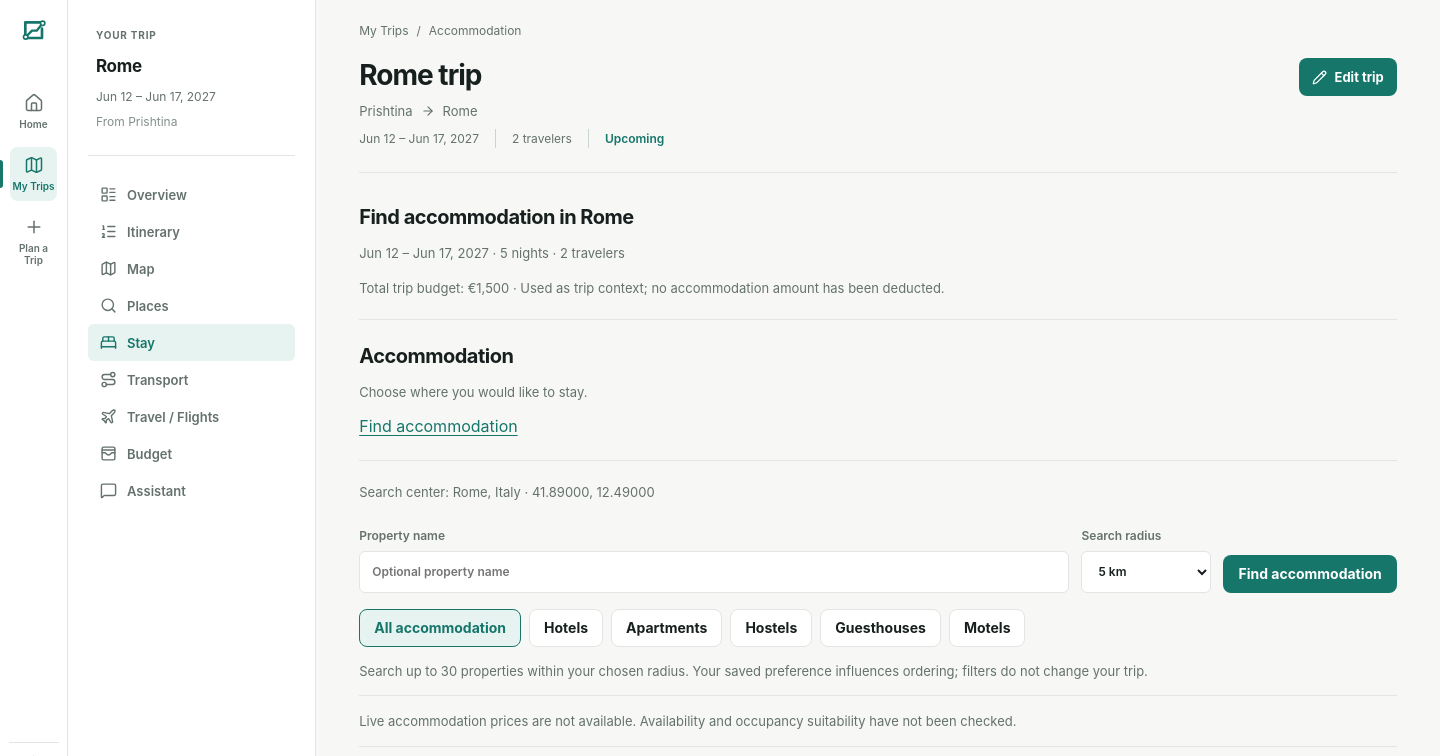
Test: Accommodation workspace through real repository and provider adapter › loads detail and media on demand, retains fallback, and keeps factual comparison fields
The width and height of the screenshot is (1440, 756).
Expected: the heading "Find accommodation in Rome" is shown, [359,205,634,229]
Click the button "Find accommodation": (1310, 574) [1223,555,1397,593]
(page scrolled)
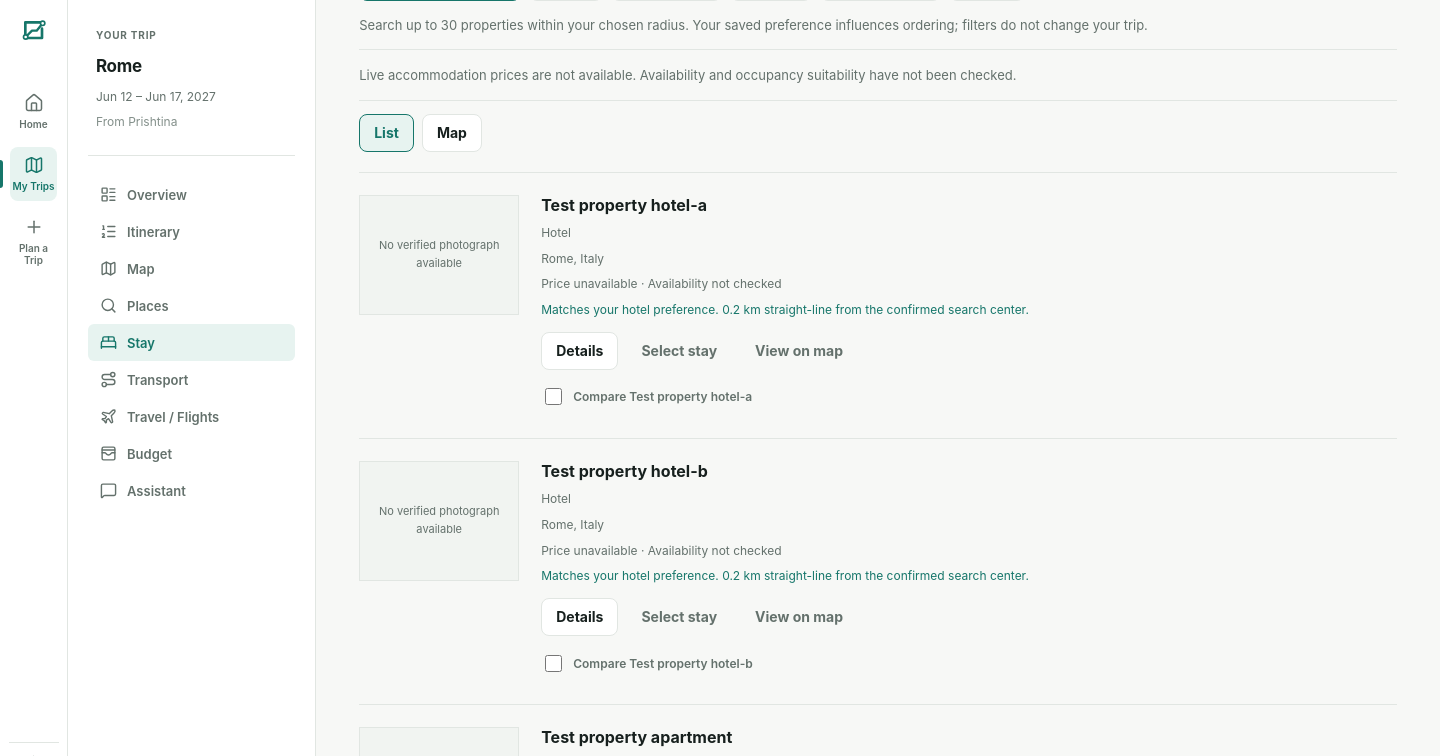
Now the button with aria-label "Details for Test property hotel-a" is shown, box [541,332,618,370]
Click the checkbox labelled "Compare Test property hotel-a": (554, 397) [545,388,562,405]
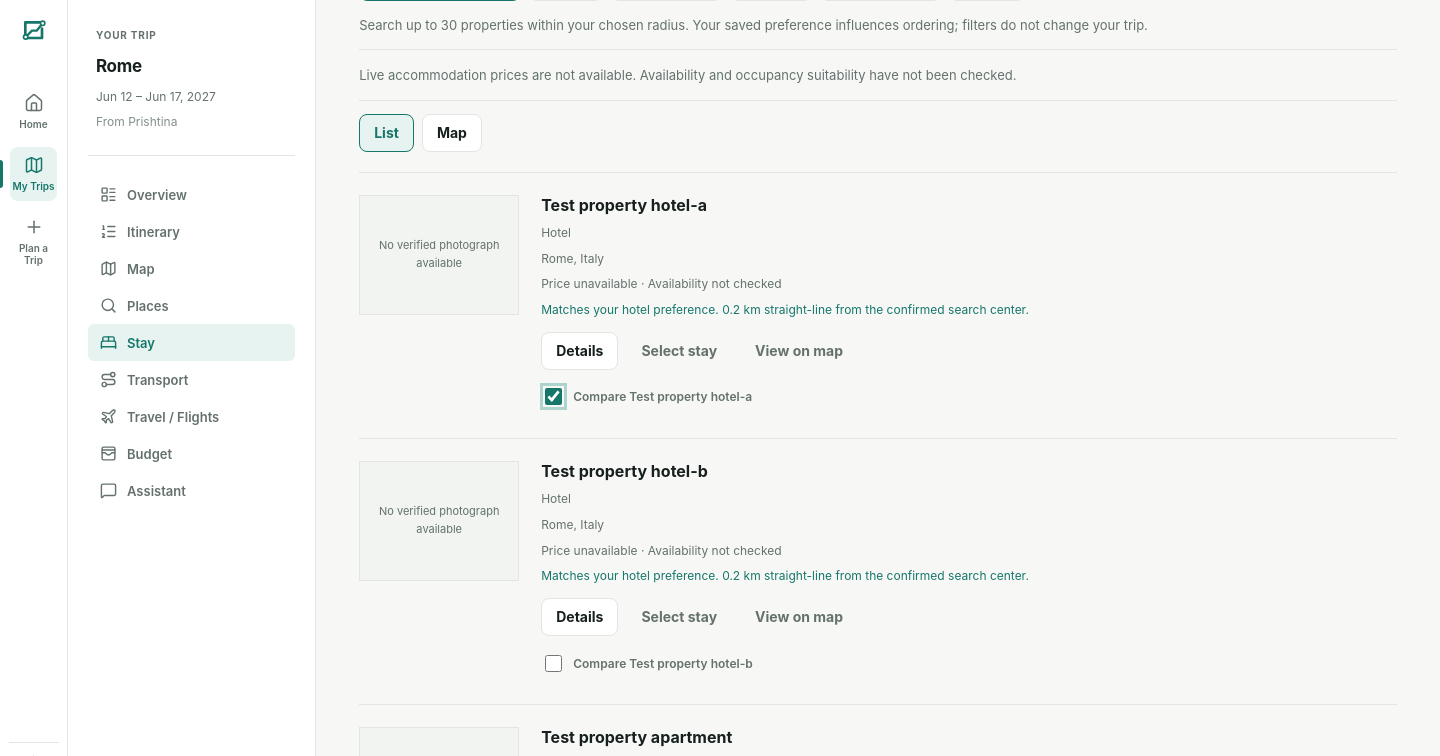
Click the checkbox labelled "Compare Test property hotel-b": (554, 663) [545,655,562,672]
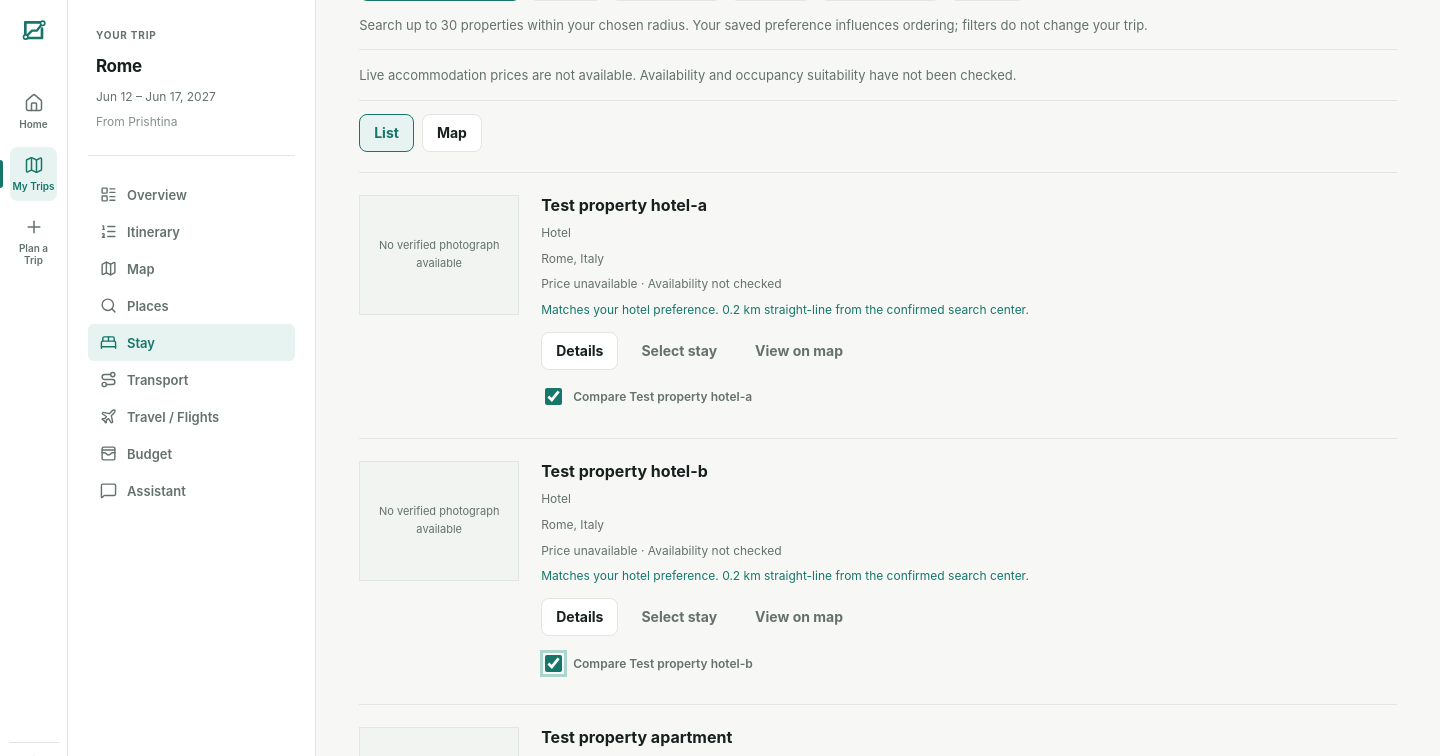
Click the button with aria-label "Details for Test property hotel-a": (580, 351) [541,332,618,370]
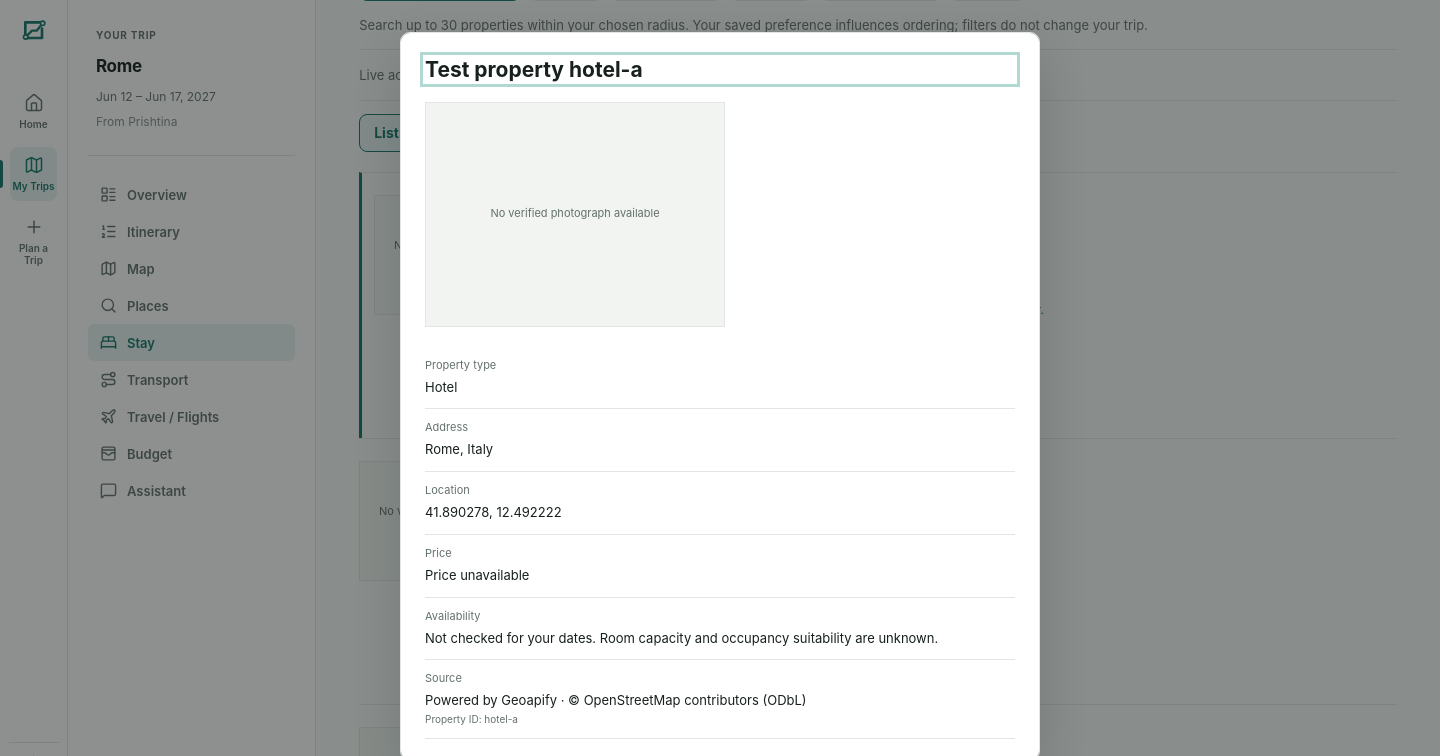
Now the dialog shows "No verified photograph available", box [490,206,660,220]
Now the dialog shows "Price unavailable", box [425,567,530,583]
